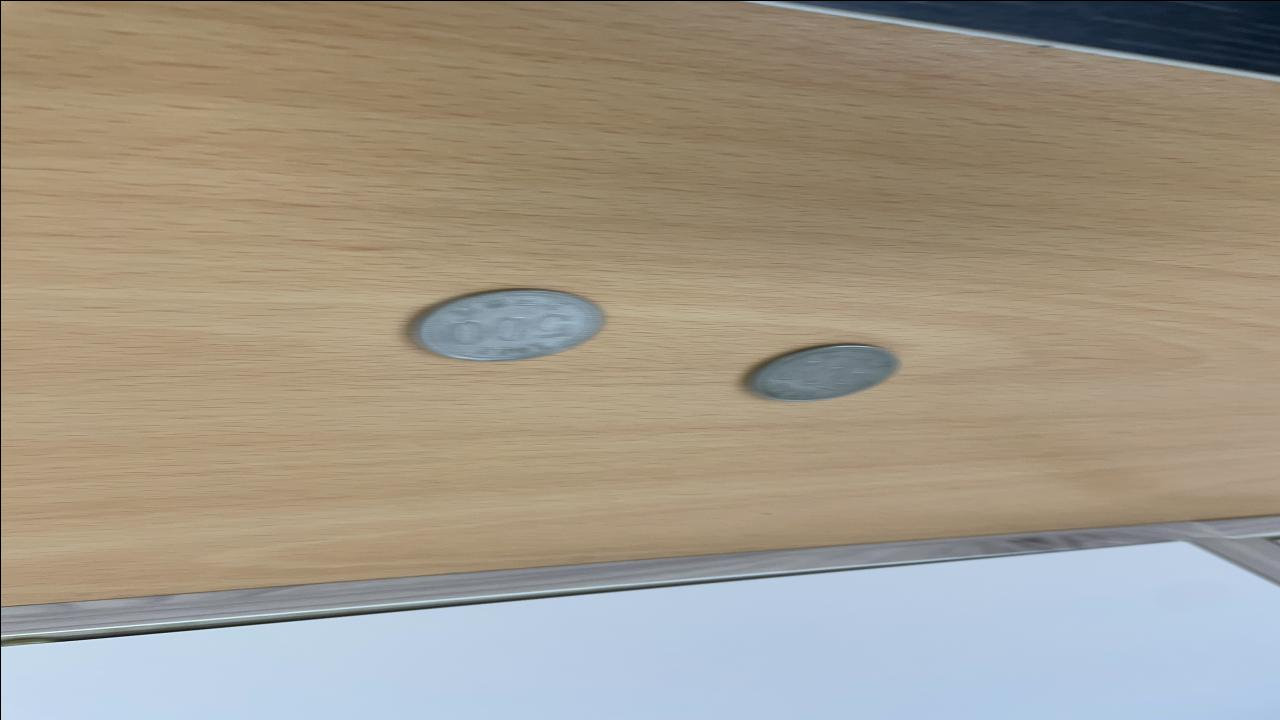coin: (403, 285, 609, 365), (746, 342, 902, 402)
